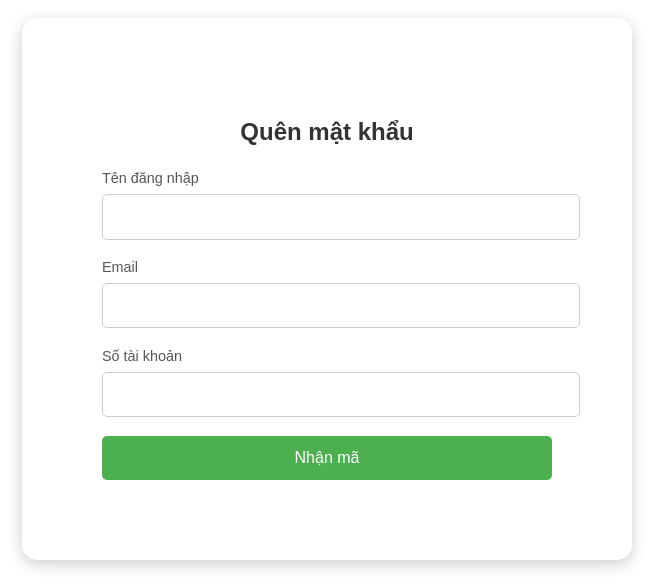
it: ForgotPasswordPage › should render the form and allow user to submit username, email, and account number
The width and height of the screenshot is (655, 587).
Step 1. Type "testuser" into the field with id "username" → (341, 217), box top-left (102, 194), bottom-right (580, 240)
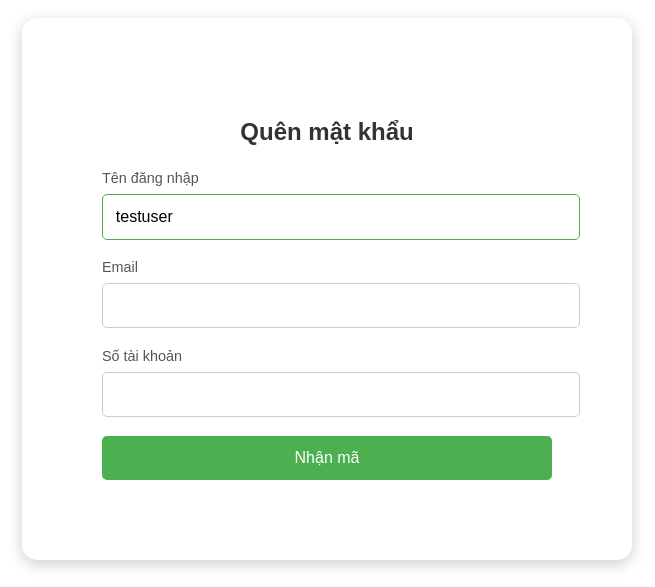
Step 2. Type "testuser@example.com" into the field with id "email" → (341, 306), box top-left (102, 283), bottom-right (580, 329)
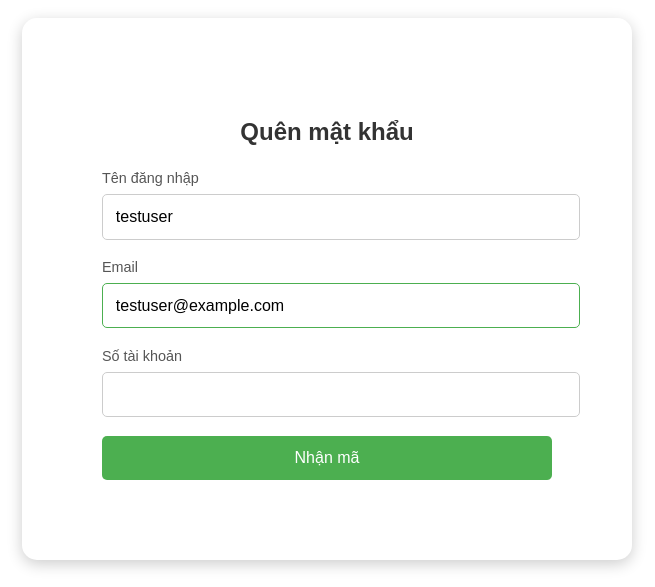
Step 3. Type "123456789" into the field with id "account-number" → (341, 395), box top-left (102, 372), bottom-right (580, 418)
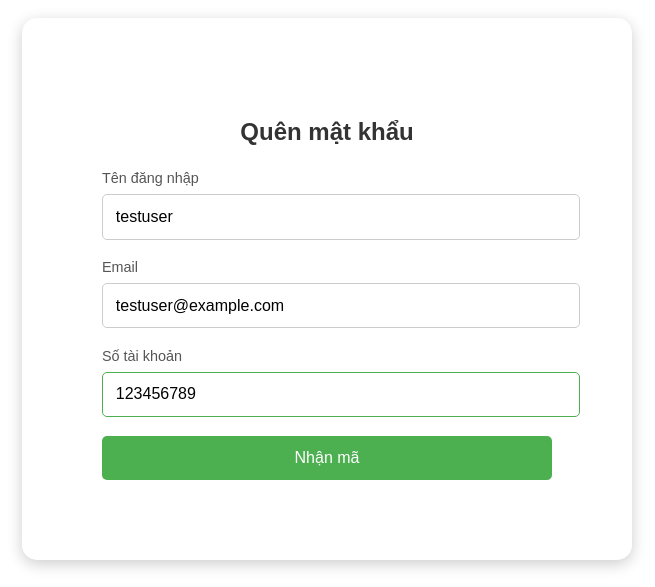
Note: Simulate clicking the "Nhận mã" button
Step 4. Click the button "Nhận mã" → (327, 458), box top-left (102, 436), bottom-right (552, 480)
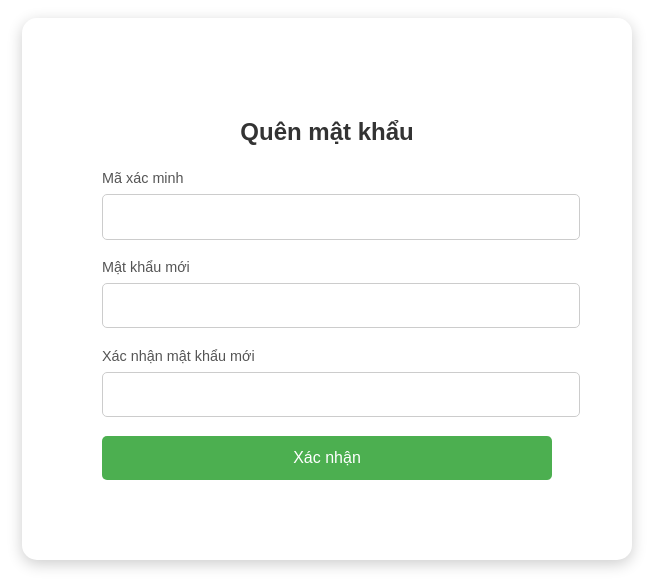
Expected: the field with id "code" is shown, top-left (102, 194), bottom-right (580, 240)
